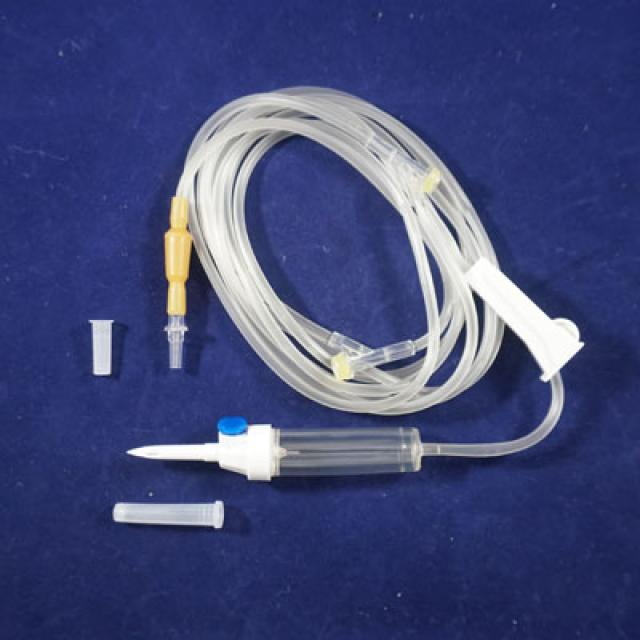B3: (75, 79, 612, 538)
